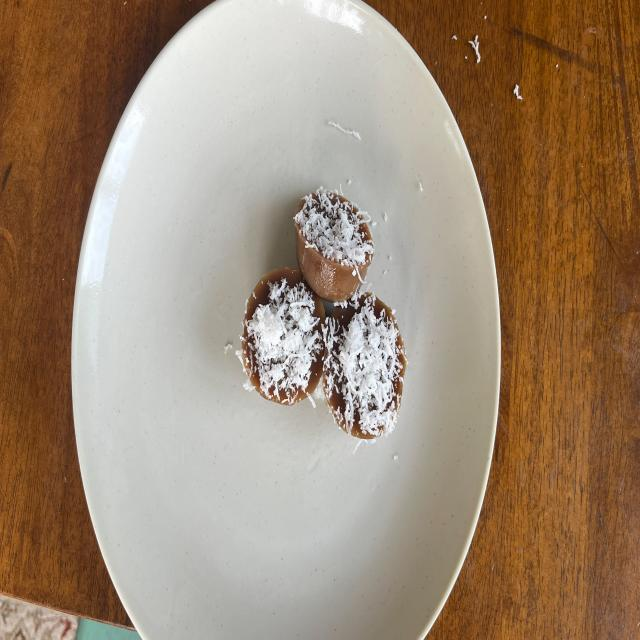Kuih lompang: (322, 293, 406, 440), (241, 267, 325, 404), (294, 189, 374, 302), (295, 222, 371, 302)
